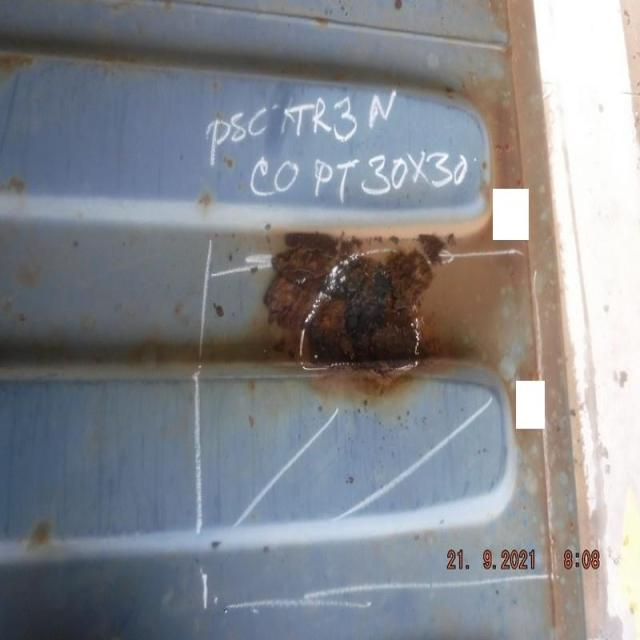rust: (265, 230, 447, 382)
